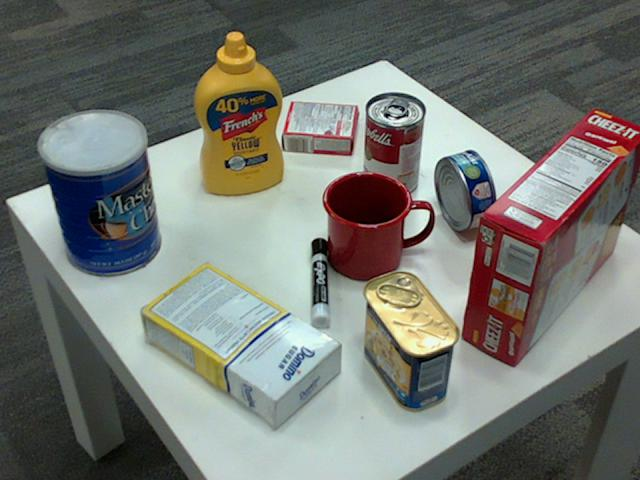cracker_box: (459, 108, 639, 364)
gelatin_box: (283, 100, 359, 152)
large_marker: (310, 239, 328, 333)
master_chef_can: (36, 110, 159, 277)
mug: (321, 169, 430, 277)
mustard_bottle: (193, 32, 283, 193)
potted_meat_can: (360, 271, 461, 410)
sugar_box: (135, 260, 338, 424)
tomato_soup_can: (362, 93, 425, 197)
tuna_fish_can: (433, 149, 494, 230)
